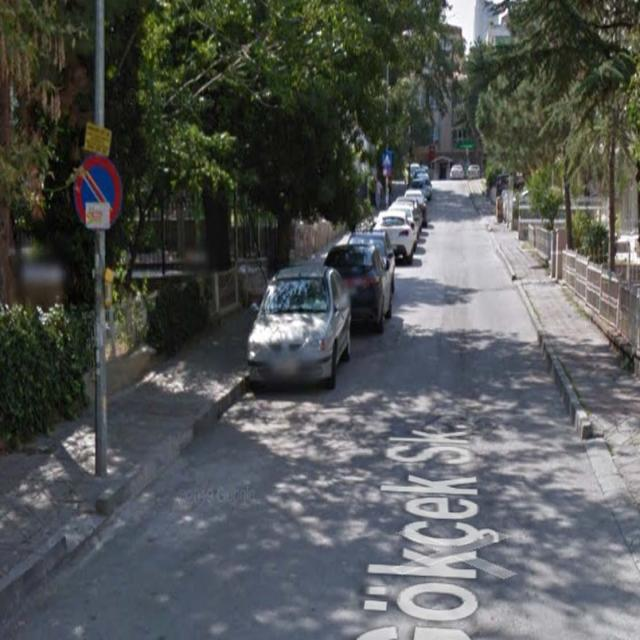parkyasak: (75, 155, 121, 228)
